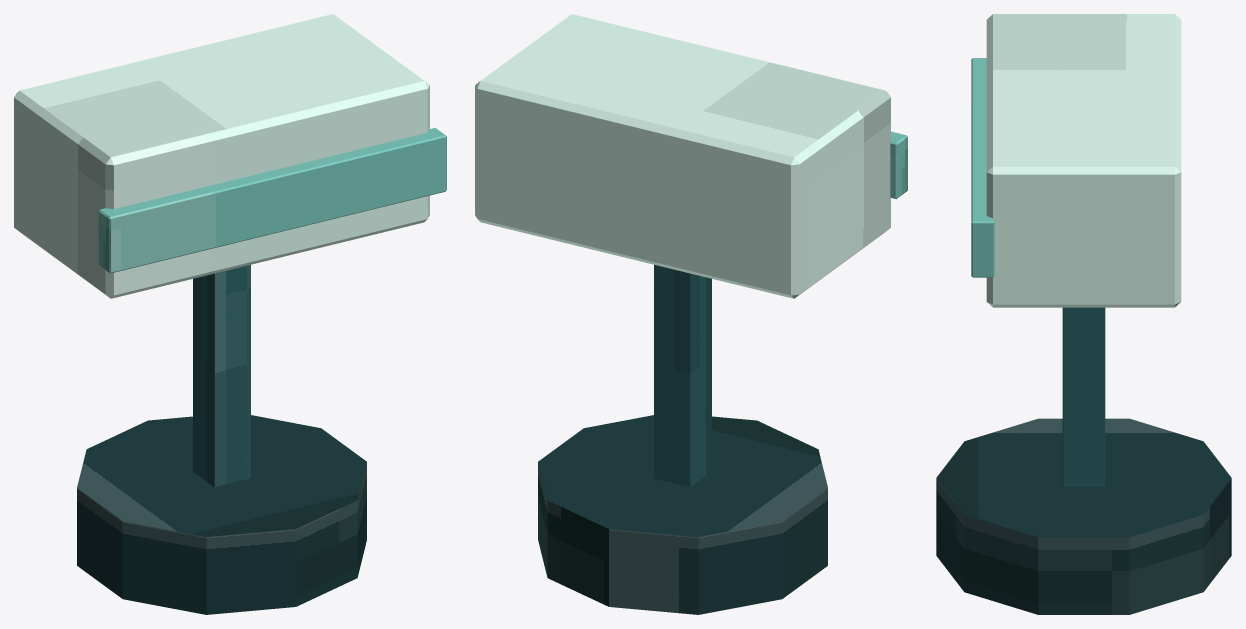
Rendered from table_lamp_teal.glb.
3 renders of one model, left to right at view 1: azimuth 30°, elevation 25°; view 2: azimuth 150°, elevation 25°; view 3: azimuth 270°, elevation 25°, orthographic.
Visible parts, largest first — view 1: BankerShade, TableLampBase, ShadeTrim, TableLampStem; view 2: BankerShade, TableLampBase, TableLampStem, ShadeTrim; view 3: BankerShade, TableLampBase, TableLampStem, ShadeTrim.
Boxes of the visible parts, left/top/right/bottom form: BankerShade: left=14, top=14, right=429, bottom=298; TableLampBase: left=77, top=415, right=366, bottom=614; ShadeTrim: left=98, top=128, right=446, bottom=273; TableLampStem: left=193, top=264, right=250, bottom=486; BankerShade: left=475, top=14, right=890, bottom=298; TableLampBase: left=538, top=415, right=827, bottom=614; TableLampStem: left=654, top=264, right=711, bottom=486; ShadeTrim: left=890, top=131, right=907, bottom=199; BankerShade: left=986, top=14, right=1181, bottom=307; TableLampBase: left=936, top=418, right=1231, bottom=614; TableLampStem: left=1062, top=307, right=1105, bottom=486; ShadeTrim: left=971, top=58, right=994, bottom=277.
Size of the model in its own units: 0.5 by 0.66 by 0.38.
1 material, 1 textured.
